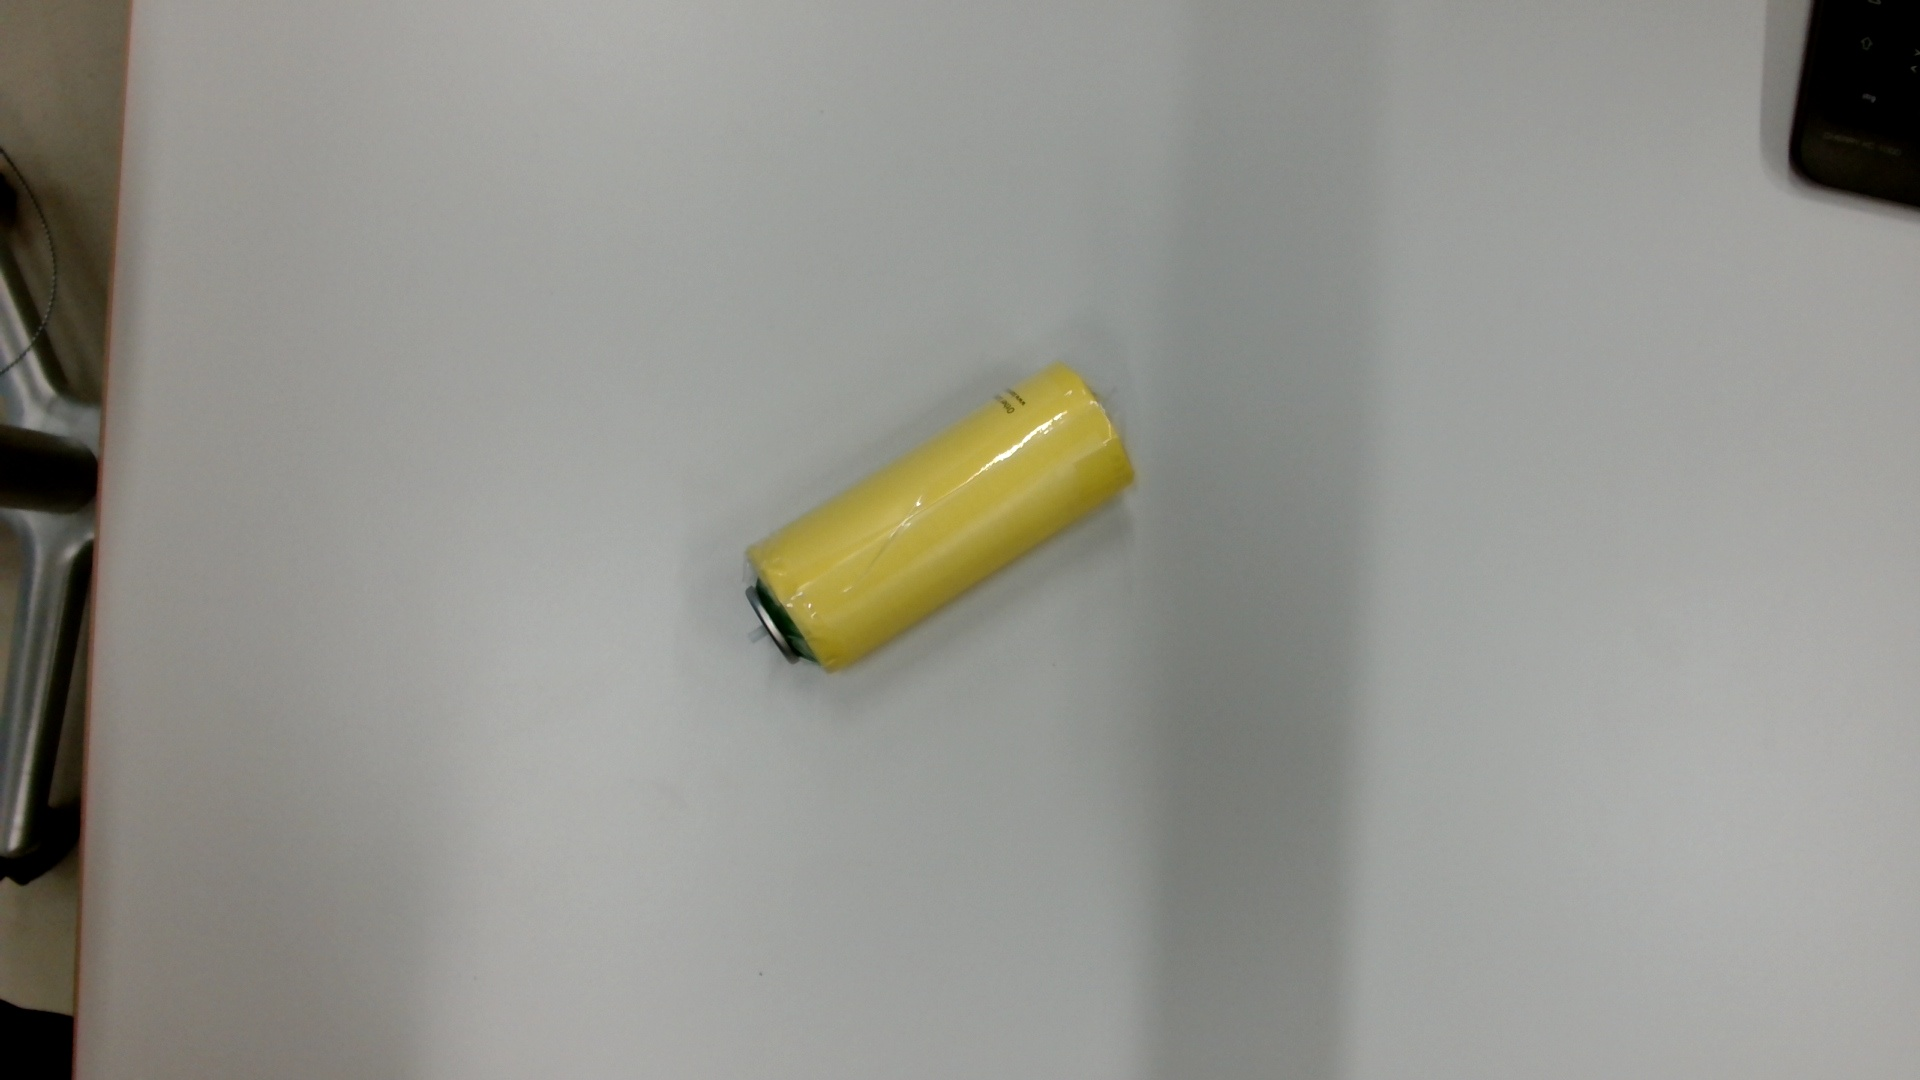Cylinder: (729, 352, 1147, 687)
